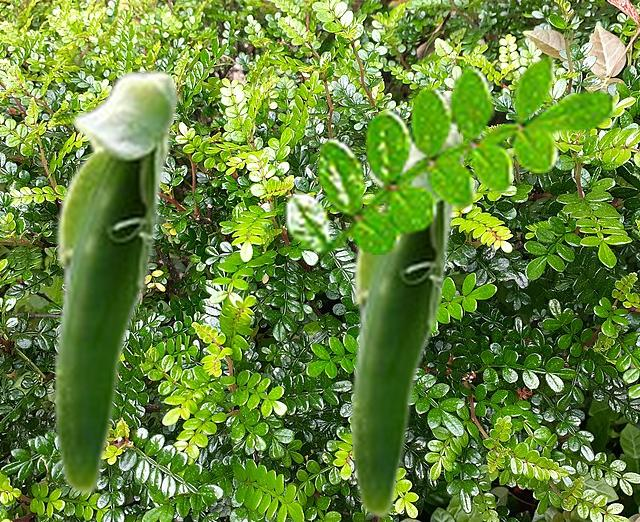pea: (52, 69, 180, 495), (349, 130, 467, 518)
